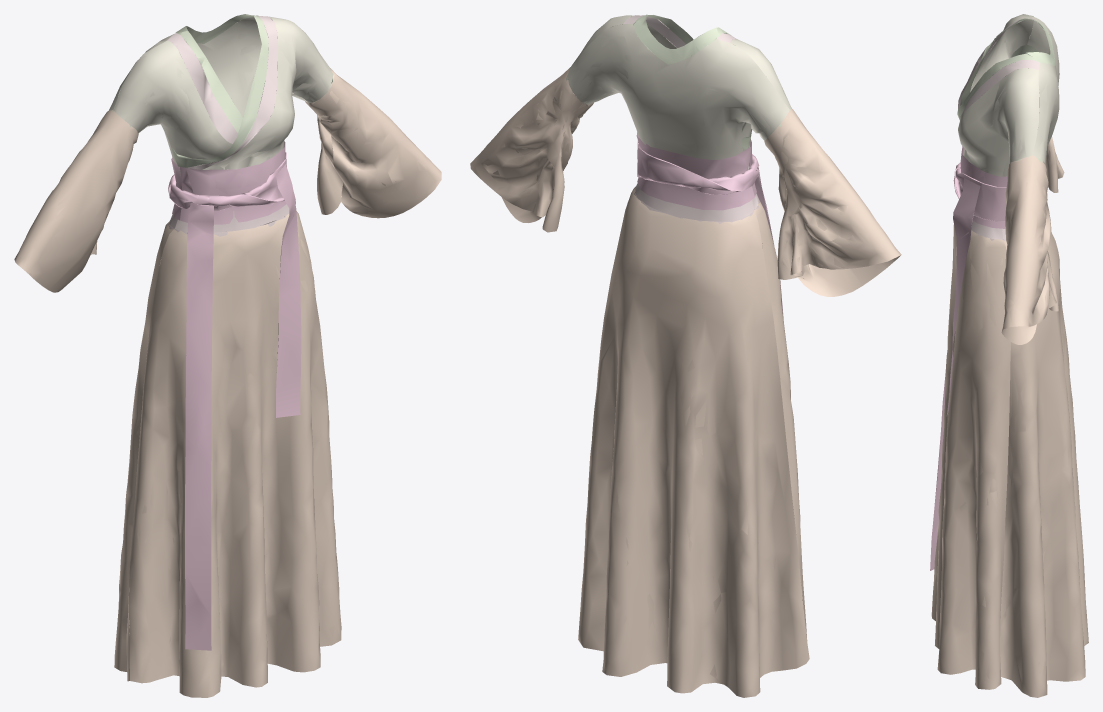
The picture shows the model from 3 angles, left to right: view 1: azimuth 30°, elevation 25°; view 2: azimuth 150°, elevation 25°; view 3: azimuth 270°, elevation 25°; orthographic projection. The views are drawn at different scales.
Bounding box in the file's own units: 1.05 × 1.51 × 0.3494.
